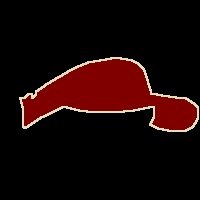hat: (20, 58, 198, 131)
